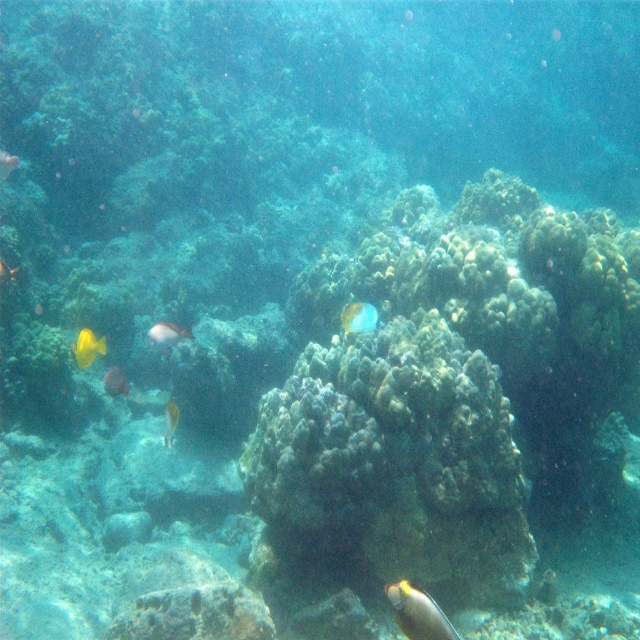Fish: (386, 581, 456, 640), (68, 326, 106, 367), (145, 323, 197, 352), (145, 319, 193, 348), (338, 302, 380, 334), (164, 397, 179, 451), (107, 367, 131, 398), (0, 256, 22, 288), (0, 148, 18, 182), (166, 398, 179, 440)
